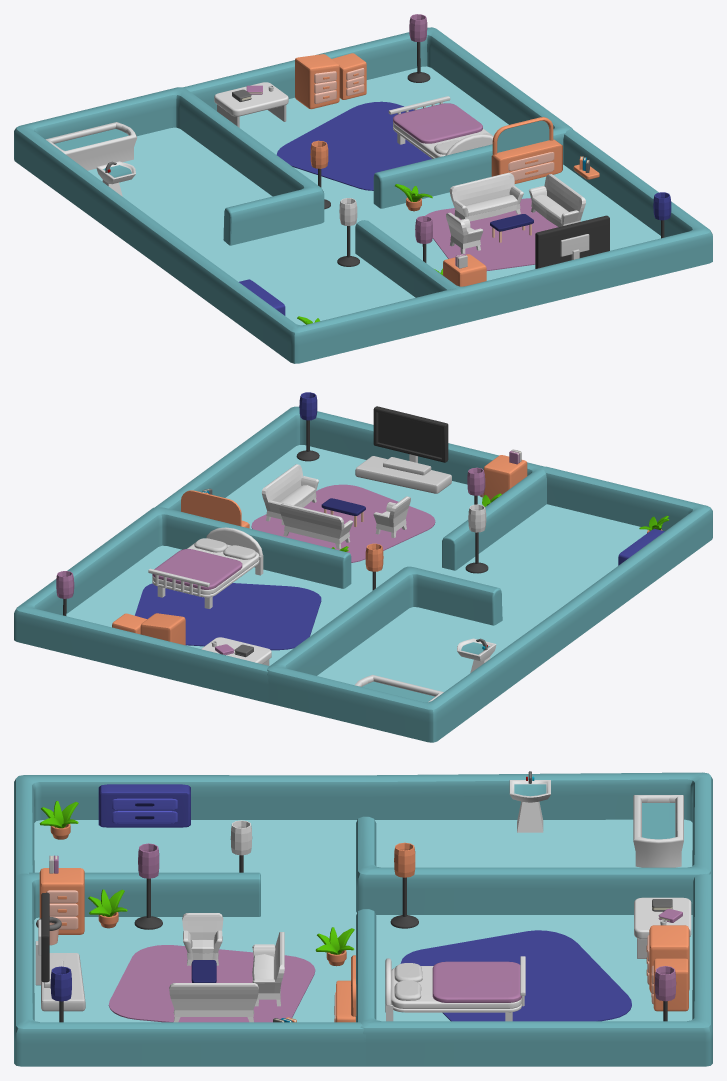
3 renders of one model, top to bottom at view 1: azimuth 30°, elevation 25°; view 2: azimuth 150°, elevation 25°; view 3: azimuth 270°, elevation 25°, orthographic. The views are drawn at different scales.
Parts seen in each view (by area): view 1: pPlane1, pCube75, pCube49, pCube47, pCube90, pCube19, pCube51, pCube63, ev, pCube78, pCube59, armchair:Mesh (+9 smaller); view 2: pPlane1, pCube75, pCube47, pCube49, pCube90, pCube59, pCube19, pCube51, ev, armchair:Mesh, pCube63, pCube50 (+7 smaller); view 3: pPlane1, pCube75, pCube49, pCube47, pCube90, pCube51, pCube19, ev, pCube91, pCube78, pCube59, pCube50 (+15 smaller).
Boxes of the visible parts, box(x1,y1,x2,y2) form: pPlane1: box(88, 66, 660, 325); pCube75: box(14, 87, 461, 363); pCube49: box(355, 129, 712, 324); pCube47: box(183, 27, 572, 208); pCube90: box(276, 101, 431, 190); pCube19: box(388, 96, 493, 158); pCube51: box(425, 198, 558, 270); pCube63: box(491, 117, 562, 183); ev: box(446, 174, 585, 253); pCube78: box(45, 122, 137, 170); pCube59: box(535, 215, 609, 268); armchair:Mesh: box(449, 172, 523, 221); pPlane1: box(66, 445, 647, 691); pCube75: box(267, 466, 712, 742); pCube47: box(14, 507, 351, 703); pCube49: box(155, 406, 546, 570); pCube90: box(135, 583, 321, 650); pCube59: box(355, 406, 451, 493); pCube19: box(148, 527, 263, 608); pCube51: box(251, 484, 435, 562); ev: box(261, 464, 410, 537); armchair:Mesh: box(279, 503, 353, 549); pCube63: box(181, 490, 249, 528); pCube50: box(483, 455, 527, 500); pPlane1: box(34, 819, 692, 1022); pCube75: box(14, 772, 712, 914); pCube49: box(14, 872, 365, 1066); pCube47: box(356, 873, 712, 1066); pCube90: box(400, 930, 631, 1021); pCube51: box(108, 945, 315, 1022); pCube19: box(385, 956, 525, 1021); ev: box(169, 913, 258, 1022); pCube91: box(98, 784, 190, 827); pCube78: box(633, 795, 683, 867); pCube59: box(35, 893, 85, 1011); pCube50: box(39, 868, 84, 934).
Size of the model in its own units: 29.74 by 4.19 by 34.36.
